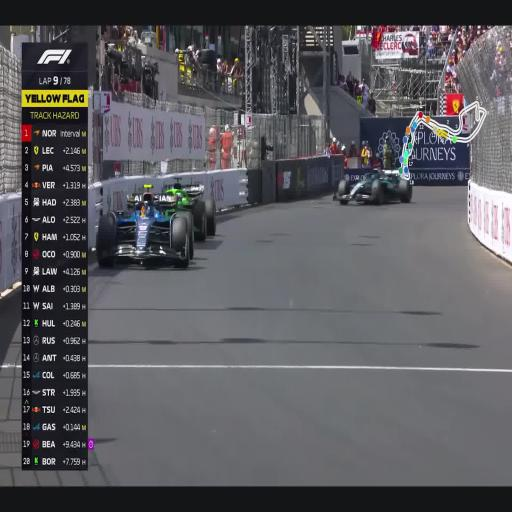f1_car: (96, 186, 193, 267), (163, 177, 216, 240), (333, 169, 413, 204), (191, 253, 192, 256), (191, 256, 193, 257)
